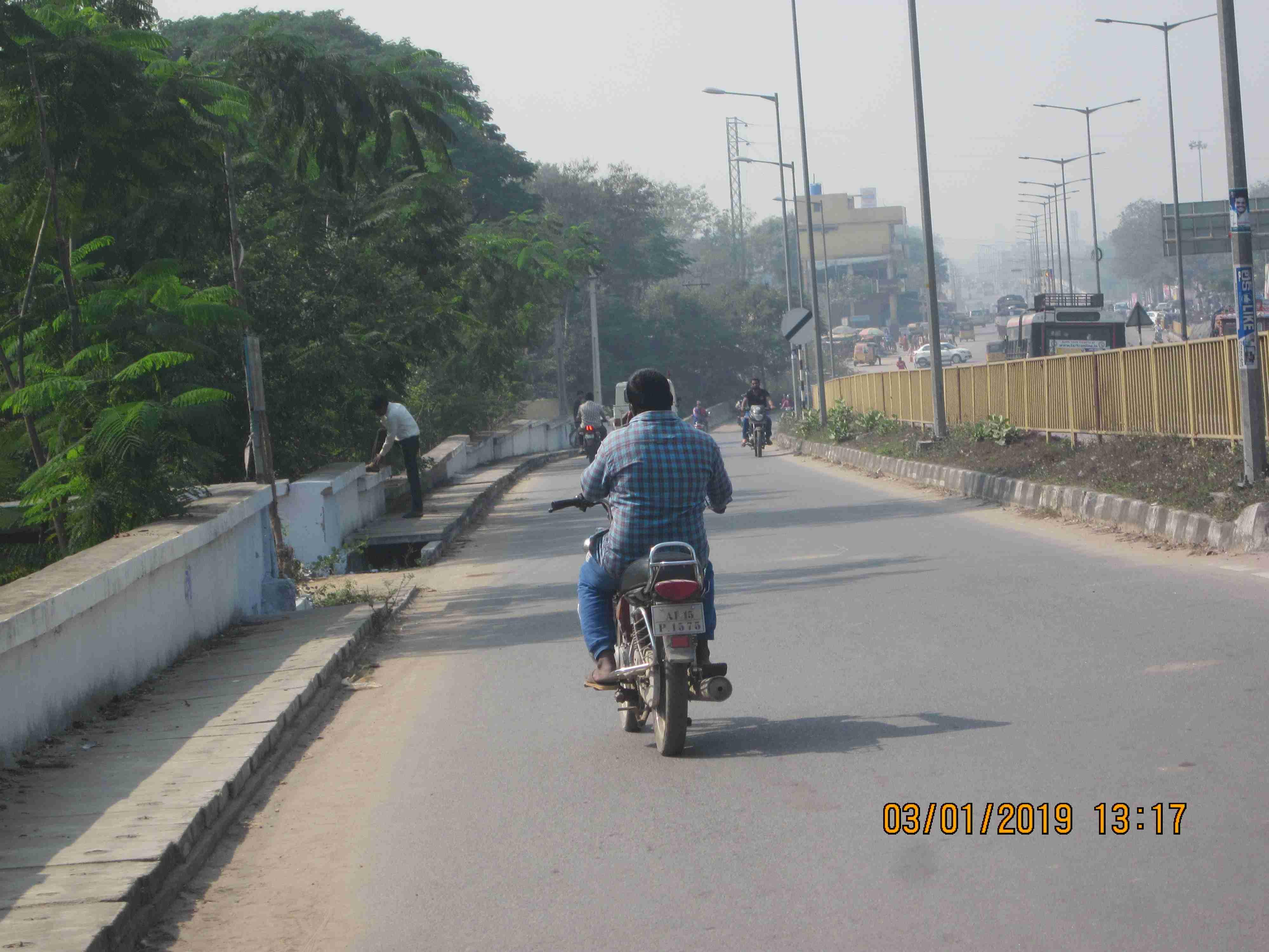plate: (648, 593, 720, 643)
